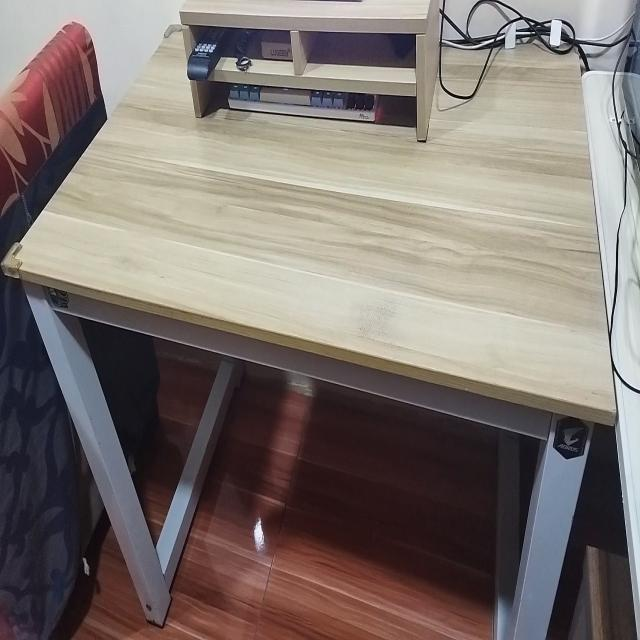table: (2, 10, 614, 640)
